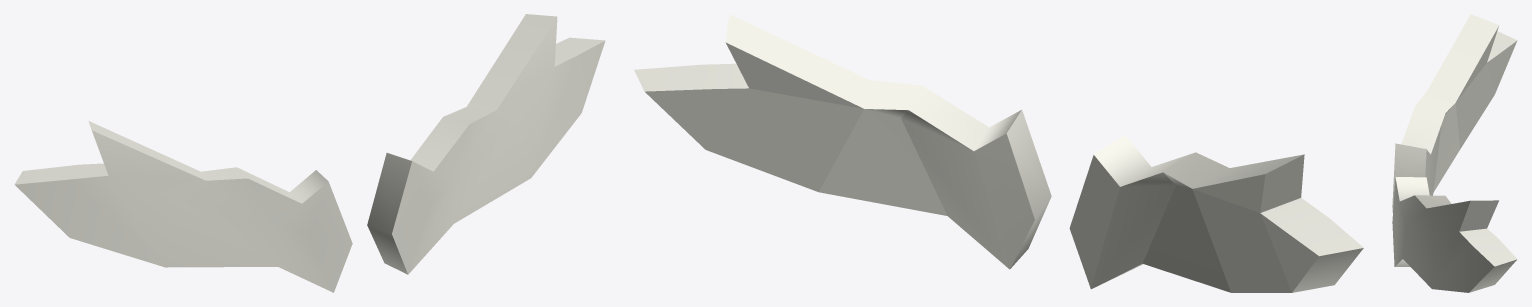
File: Brow_White_12.fbx
3 renders of one model, left to right at view 1: azimuth 30°, elevation 25°; view 2: azimuth 150°, elevation 25°; view 3: azimuth 270°, elevation 25°, orthographic. The views are drawn at different scales.
Visible parts, largest first — view 1: Brow_White_12; view 2: Brow_White_12; view 3: Brow_White_12.
Part boxes in pixels (box(x1,y1,x2,y2)): Brow_White_12: box(14, 14, 605, 292); Brow_White_12: box(634, 14, 1363, 292); Brow_White_12: box(1392, 14, 1517, 292).
Bounding box in the file's own units: 50.7 × 14.59 × 11.32.
